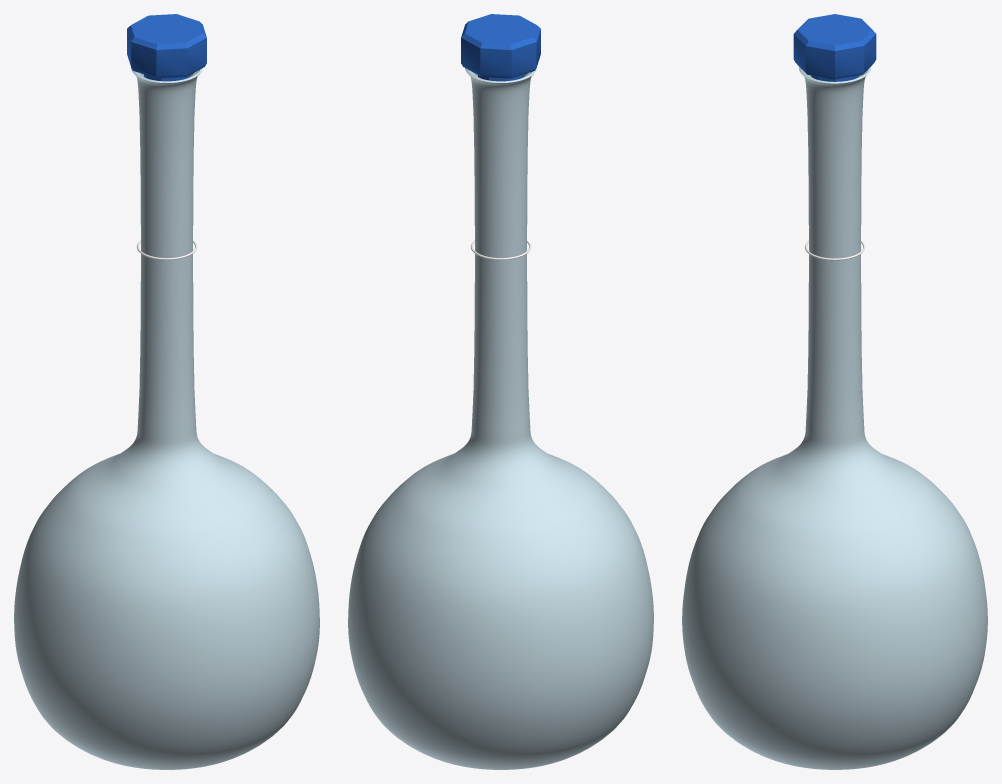
The model's file is volumetric-flask.glb.
3 views of the same model, side by side, from view 1: azimuth 30°, elevation 25°; view 2: azimuth 150°, elevation 25°; view 3: azimuth 270°, elevation 25° (orthographic).
Parts seen in each view (by area): view 1: Volumetric_Flask, Stopper; view 2: Volumetric_Flask, Stopper; view 3: Volumetric_Flask, Stopper.
Boxes of the visible parts, box(x1,y1,x2,y2) form: Volumetric_Flask: box(14, 68, 319, 769); Stopper: box(127, 14, 206, 81); Volumetric_Flask: box(348, 68, 653, 769); Stopper: box(461, 14, 540, 81); Volumetric_Flask: box(682, 67, 987, 769); Stopper: box(793, 14, 876, 81).
Bounding box in the file's own units: 0.0918 × 0.2332 × 0.0918.
